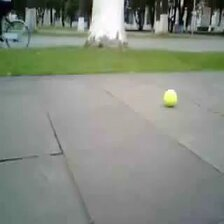tennis: (163, 89, 178, 106)
